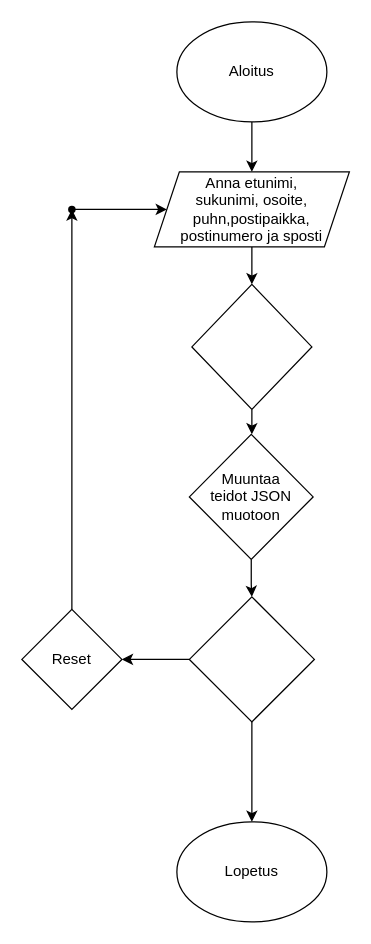
This 371x944 diagram has some shape labels left out. The centre of each missing label's shape, as x and y in pixels:
"Luo objektin tiedoista" goes at point 251,346.
"Lähettää tiedot local storageen" goes at point 251,659.
